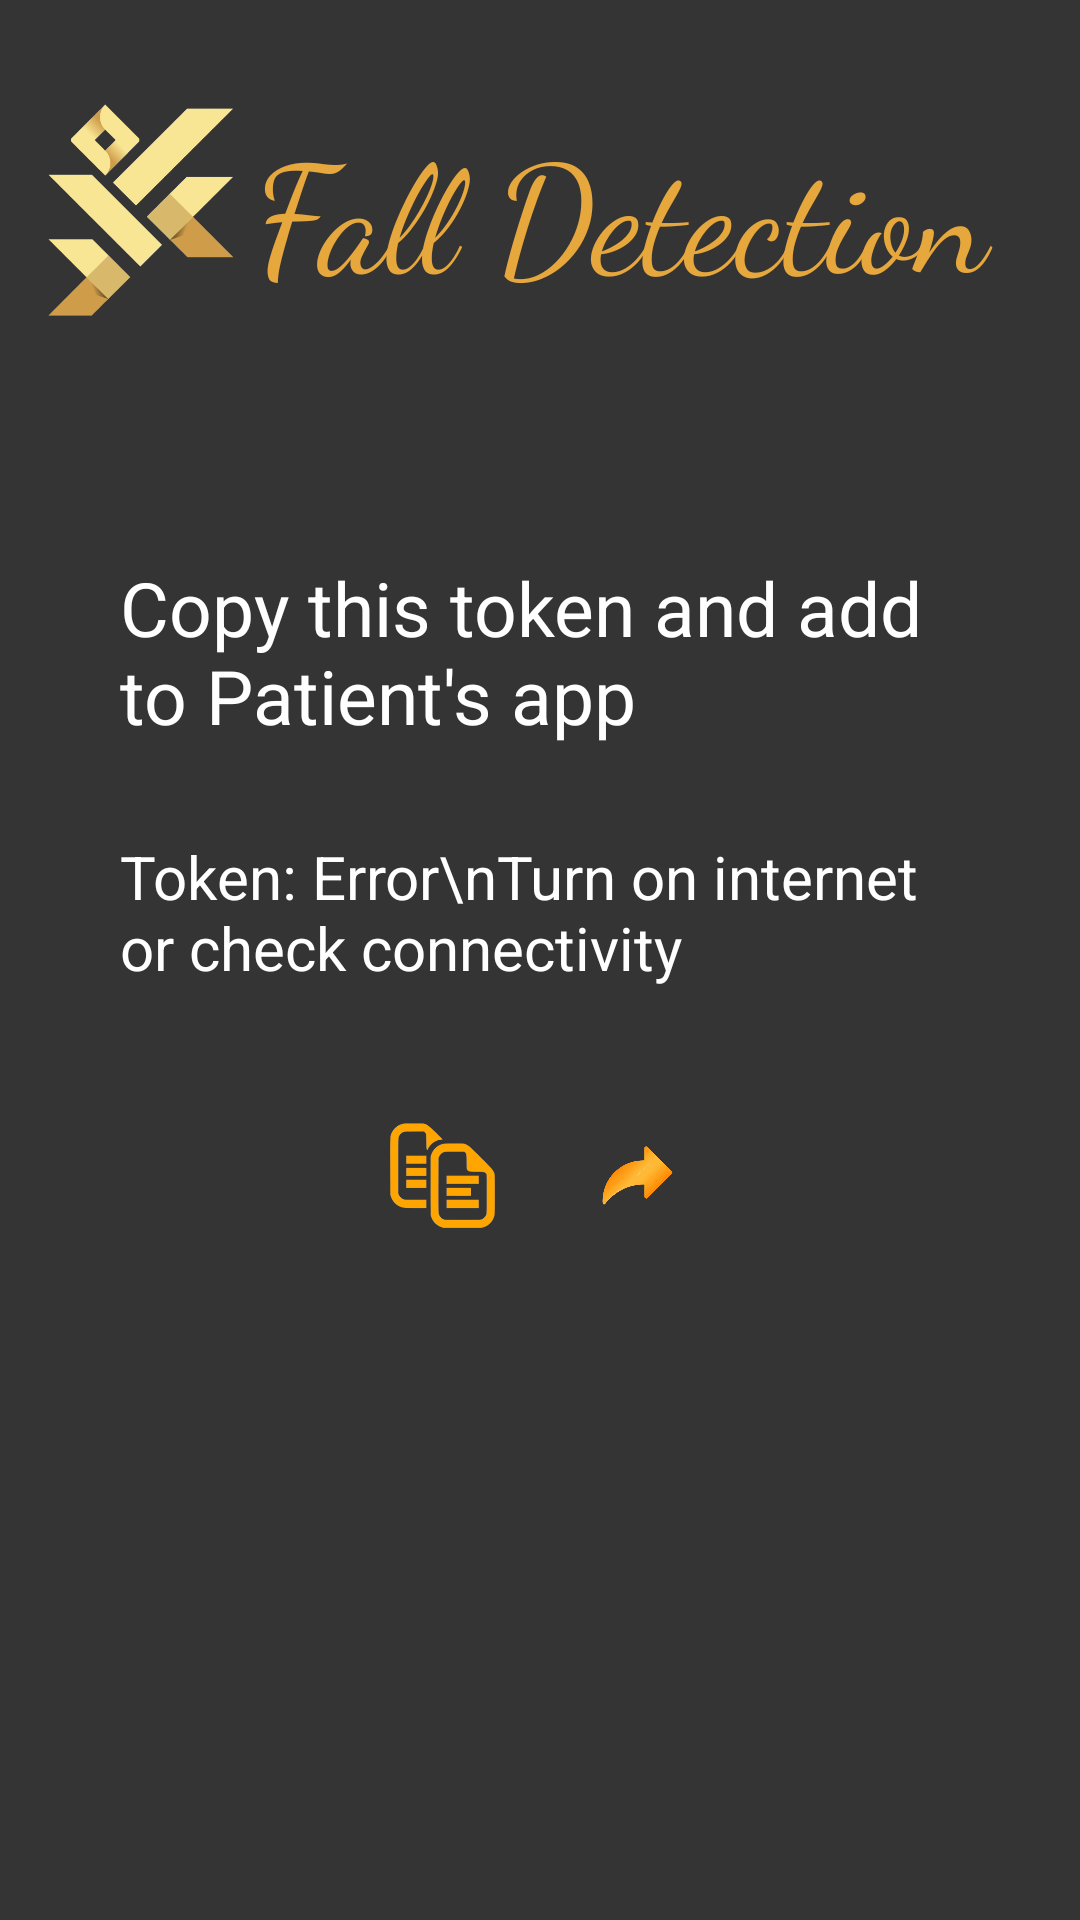

Icons on this 1080px x 1920px Android screen, each with its box as (x1, y1, x2, y2):
share: (602, 1146, 673, 1205)
